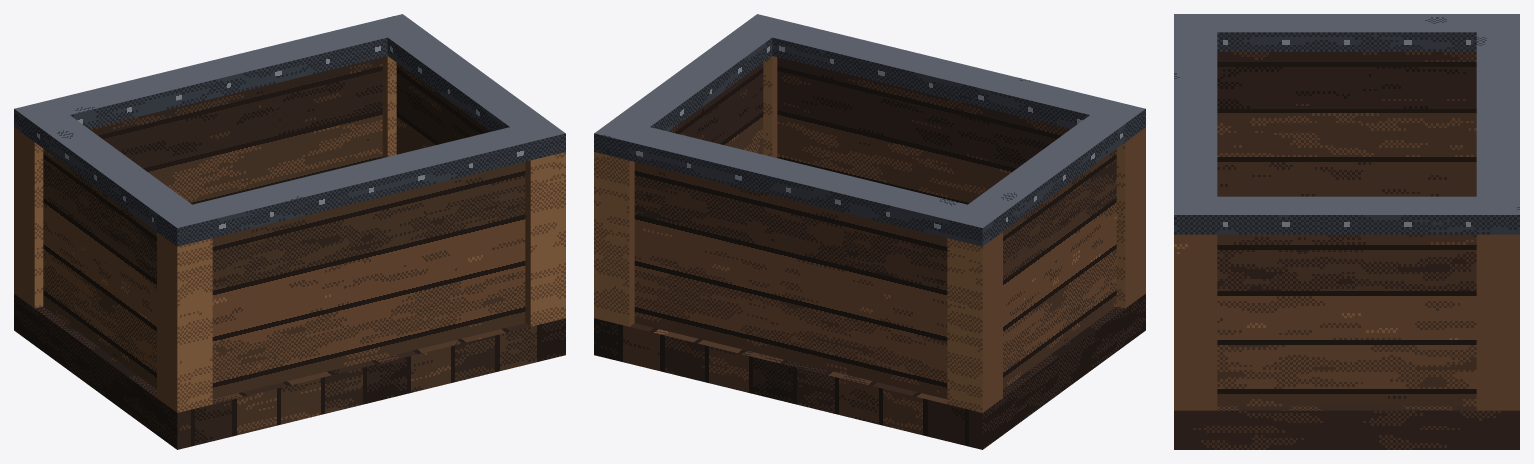
File: SM_Prop_DisposalBin_01.glb
3 renders of one model, left to right at view 1: azimuth 30°, elevation 25°; view 2: azimuth 150°, elevation 25°; view 3: azimuth 270°, elevation 25°, orthographic. The views are drawn at different scales.
Visible parts, largest first — view 1: long_wall_positive, long_wall_negative, floor, short_wall_negative, long_rim_positive, long_rim_negative, post_negative_front, post_positive_front, short_rim_negative, short_rim_positive, post_negative_back, short_wall_positive (+1 smaller); view 2: long_wall_negative, long_wall_positive, floor, short_wall_negative, long_rim_negative, long_rim_positive, post_negative_back, post_positive_back, short_rim_negative, short_rim_positive, post_negative_front, short_wall_positive (+1 smaller); view 3: short_wall_positive, short_wall_negative, floor, short_rim_positive, short_rim_negative, long_rim_positive, long_rim_negative, post_positive_front, post_positive_back.
Part boxes in pixels (x1,y1,x2,y2): long_wall_positive: [212, 162, 525, 399]; long_wall_negative: [89, 57, 382, 204]; floor: [14, 294, 565, 449]; short_wall_negative: [43, 149, 156, 389]; long_rim_positive: [157, 118, 565, 246]; long_rim_negative: [14, 14, 422, 141]; post_negative_front: [157, 232, 212, 412]; post_positive_front: [525, 152, 565, 326]; short_rim_negative: [34, 115, 191, 231]; short_rim_positive: [387, 29, 544, 131]; post_negative_back: [14, 127, 43, 308]; short_wall_positive: [396, 63, 490, 154]; long_wall_negative: [634, 162, 947, 399]; long_wall_positive: [777, 57, 1070, 204]; floor: [594, 294, 1145, 449]; short_wall_negative: [1003, 149, 1116, 389]; long_rim_negative: [594, 118, 1002, 246]; long_rim_positive: [737, 14, 1145, 141]; post_negative_back: [947, 232, 1002, 412]; post_positive_back: [594, 152, 634, 326]; short_rim_negative: [968, 115, 1125, 231]; short_rim_positive: [615, 29, 772, 131]; post_negative_front: [1116, 127, 1145, 308]; short_wall_positive: [669, 63, 763, 154]; short_wall_positive: [1217, 234, 1476, 406]; short_wall_negative: [1217, 52, 1476, 196]; floor: [1174, 406, 1519, 449]; short_rim_positive: [1217, 196, 1476, 234]; short_rim_negative: [1217, 14, 1476, 51]; long_rim_positive: [1174, 14, 1217, 234]; long_rim_negative: [1476, 14, 1519, 234]; post_positive_front: [1174, 234, 1217, 410]; post_positive_back: [1476, 234, 1519, 410].
Bounding box in the file's own units: 1.38 × 0.75 × 1.
Materials: 1 (1 with a texture image).
